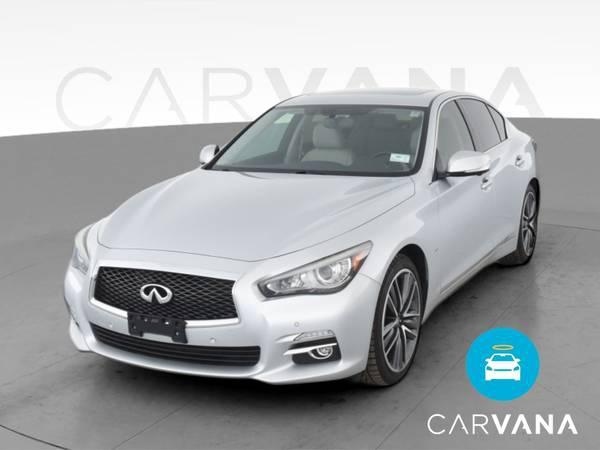Front_Bumper: (61, 262, 382, 383)
Front_Fender: (362, 166, 445, 318)
Front_Left_Door: (441, 158, 497, 295)
Front_Left_Window: (431, 99, 482, 182)
Front_Windshield: (201, 106, 425, 178)
Grille: (89, 269, 238, 330)
Hood: (79, 169, 410, 281)
Left_Headlight: (255, 240, 372, 302)
Rear_Fender: (508, 129, 538, 177)
Rear_Left_Door: (483, 142, 528, 261)
Rear_Left_Window: (460, 100, 511, 160)
Right_Headlight: (72, 222, 91, 271)
Roof: (271, 87, 484, 177)
Wheel: (372, 259, 426, 382), (519, 188, 541, 261)
